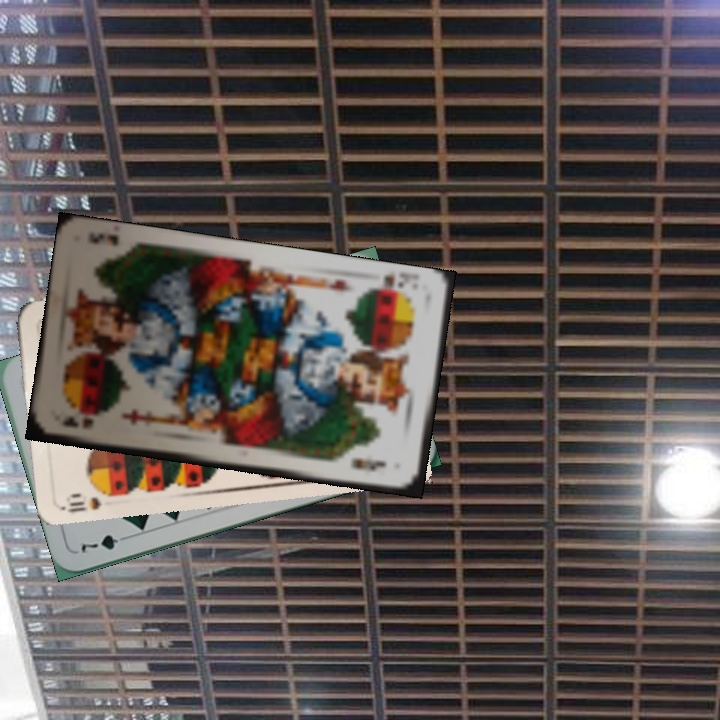G7: (76, 530, 133, 556)
S10: (59, 485, 118, 515)
SK: (366, 269, 415, 300), (57, 413, 96, 431)
